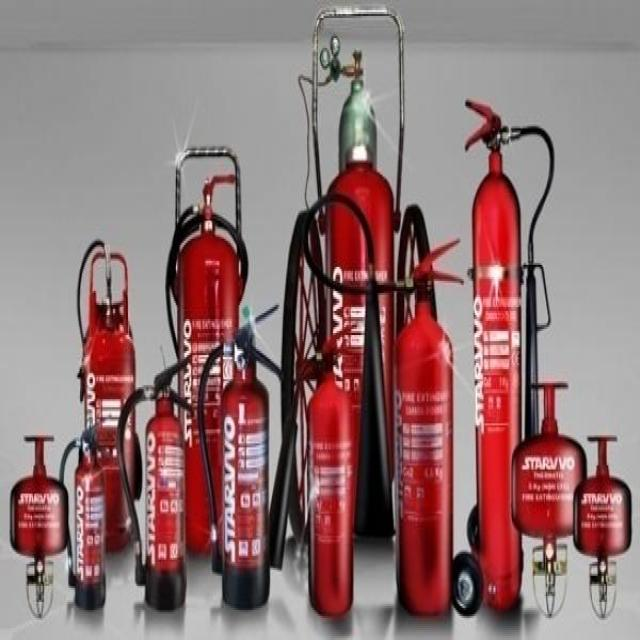fire_extinguisher: (299, 189, 468, 620), (293, 28, 404, 546), (460, 94, 554, 614), (162, 165, 252, 562), (256, 319, 361, 622), (195, 293, 286, 612), (112, 353, 197, 616), (73, 232, 139, 556), (506, 378, 591, 621), (568, 429, 639, 626), (55, 411, 117, 612), (7, 429, 69, 620)
